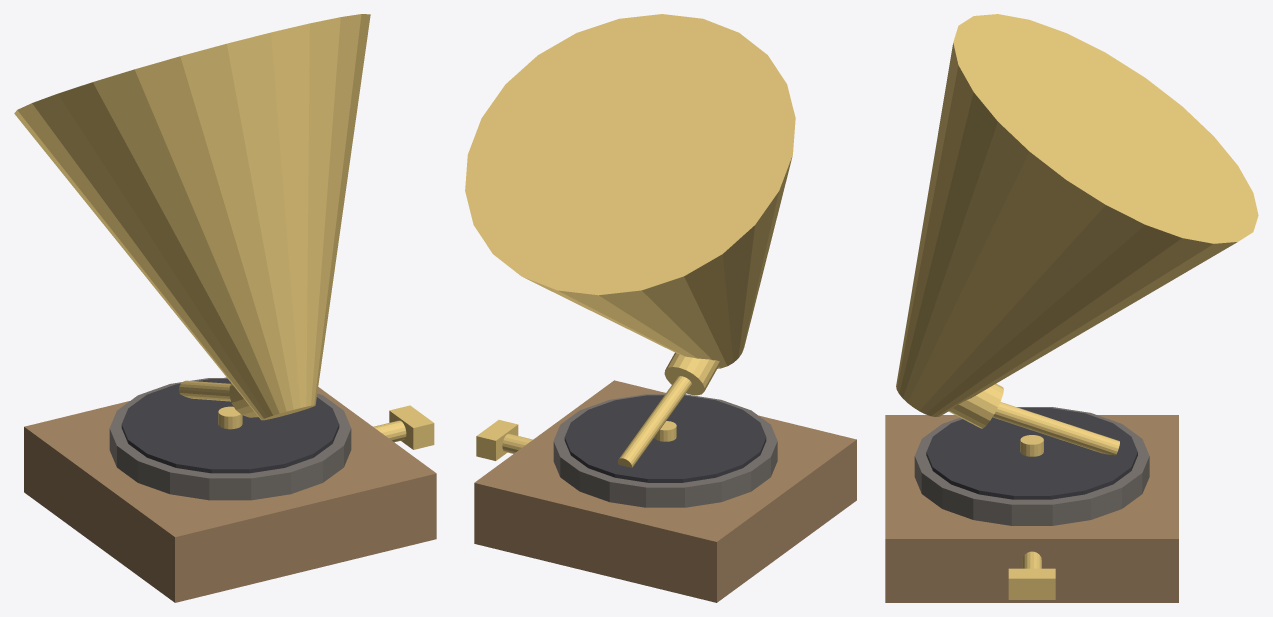
File: gramophone.glb
3 renders of one model, left to right at view 1: azimuth 30°, elevation 25°; view 2: azimuth 150°, elevation 25°; view 3: azimuth 270°, elevation 25°, orthographic. The views are drawn at different scales.
Parts seen in each view (by area): view 1: Cone, Cube, Cylinder.001, Cylinder, Cube.001, Cylinder.004; view 2: Cone, Cube, Cylinder.001, Cylinder, Cylinder.004, Cylinder.003, Cube.001; view 3: Cone, Cube, Cylinder.001, Cylinder, Cylinder.004, Cube.001, Cylinder.003.
Boxes of the visible parts, box(x1,y1,x2,y2) form: Cone: box(14, 14, 370, 420); Cube: box(24, 377, 436, 602); Cylinder.001: box(121, 379, 339, 473); Cylinder: box(109, 378, 351, 500); Cube.001: box(389, 405, 434, 449); Cylinder.004: box(179, 380, 230, 401); Cone: box(465, 14, 795, 368); Cube: box(474, 380, 856, 602); Cylinder.001: box(564, 395, 766, 482); Cylinder: box(553, 394, 777, 507); Cylinder.004: box(617, 376, 691, 467); Cylinder.003: box(664, 352, 720, 395); Cube.001: box(476, 420, 518, 460); Cone: box(896, 14, 1258, 416); Cube: box(885, 415, 1178, 602); Cylinder.001: box(926, 408, 1137, 499); Cylinder: box(914, 407, 1149, 525); Cylinder.004: box(993, 402, 1119, 455); Cube.001: box(1008, 568, 1055, 599); Cylinder.003: box(949, 383, 1003, 428).
Bounding box in the file's own units: 1.01 × 1.41 × 0.9536.
